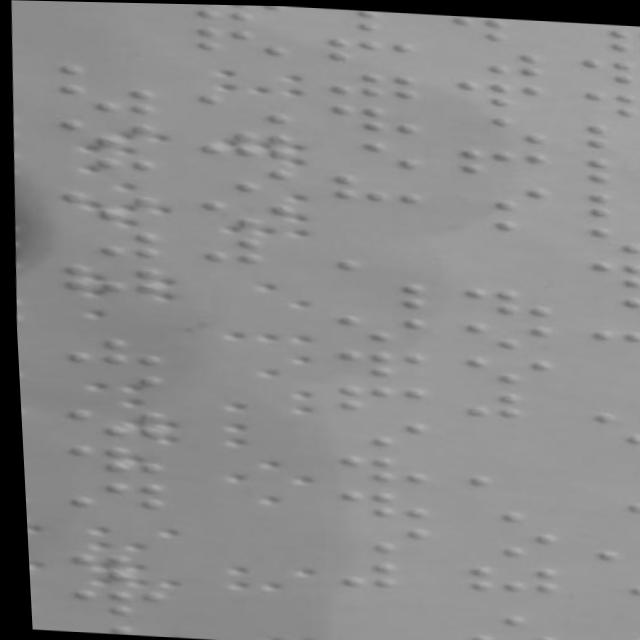braiile: (44, 437, 171, 476), (189, 191, 304, 233), (52, 258, 171, 298), (447, 278, 567, 317), (316, 483, 438, 521), (50, 330, 167, 369), (54, 581, 172, 619), (447, 556, 564, 594), (52, 183, 166, 222), (44, 221, 161, 259), (314, 377, 430, 415), (317, 270, 431, 308), (311, 132, 431, 168), (321, 448, 433, 486), (308, 412, 428, 447), (48, 404, 167, 439), (316, 343, 431, 379), (53, 150, 167, 186), (49, 79, 161, 115), (446, 142, 552, 180), (53, 368, 167, 403), (316, 30, 426, 66), (318, 310, 439, 342), (191, 158, 298, 194), (312, 100, 429, 132), (49, 117, 165, 149), (446, 42, 550, 77), (452, 525, 559, 559), (317, 519, 424, 553), (455, 315, 558, 349), (442, 179, 548, 212), (450, 75, 550, 108), (449, 108, 547, 141), (459, 350, 557, 382), (563, 18, 640, 51), (568, 49, 640, 84), (574, 321, 640, 357), (574, 255, 640, 289), (570, 424, 640, 456), (574, 185, 640, 218), (576, 492, 640, 526), (577, 290, 640, 323), (576, 85, 640, 117), (53, 620, 172, 637), (447, 623, 565, 640), (579, 221, 640, 252), (585, 560, 640, 592)
